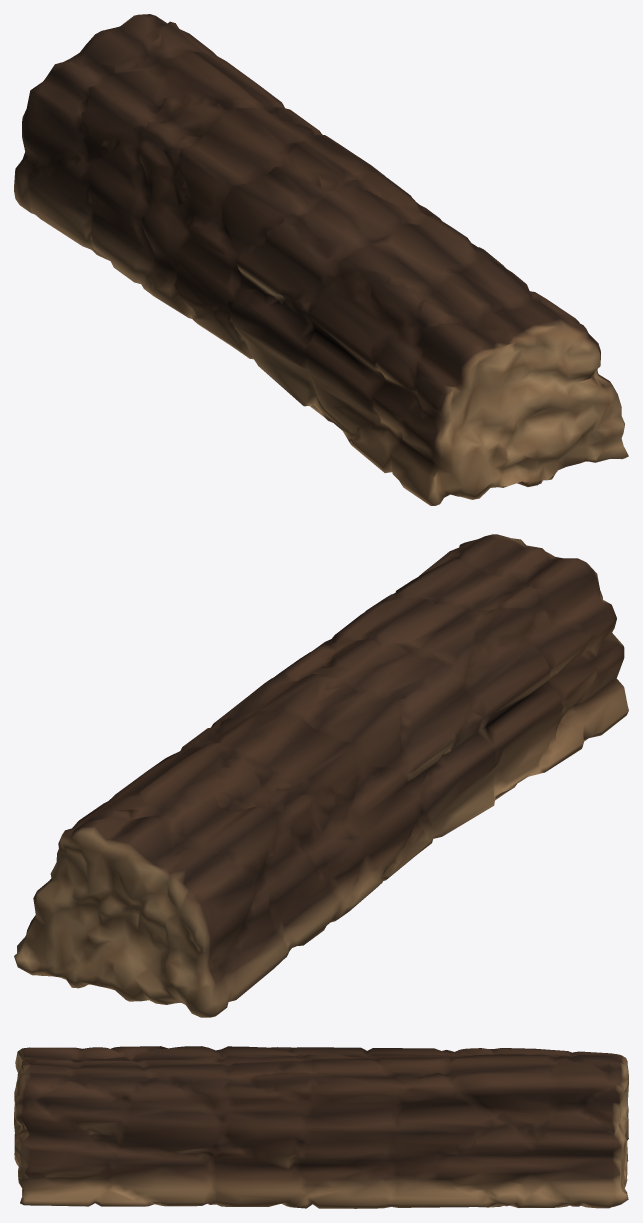
Rendered from ember_split_log_b.glb.
The picture shows the model from 3 angles, top to bottom: view 1: azimuth 30°, elevation 25°; view 2: azimuth 150°, elevation 25°; view 3: azimuth 270°, elevation 25°; orthographic projection. The views are drawn at different scales.
Visible parts, largest first — view 1: ember_split_log_b; view 2: ember_split_log_b; view 3: ember_split_log_b.
Part boxes in pixels (box(x1,y1,x2,y2)): ember_split_log_b: box(14, 14, 628, 505); ember_split_log_b: box(14, 534, 628, 1017); ember_split_log_b: box(14, 1046, 628, 1208).
Bounding box in the file's own units: 16.2 × 12.76 × 56.96.
